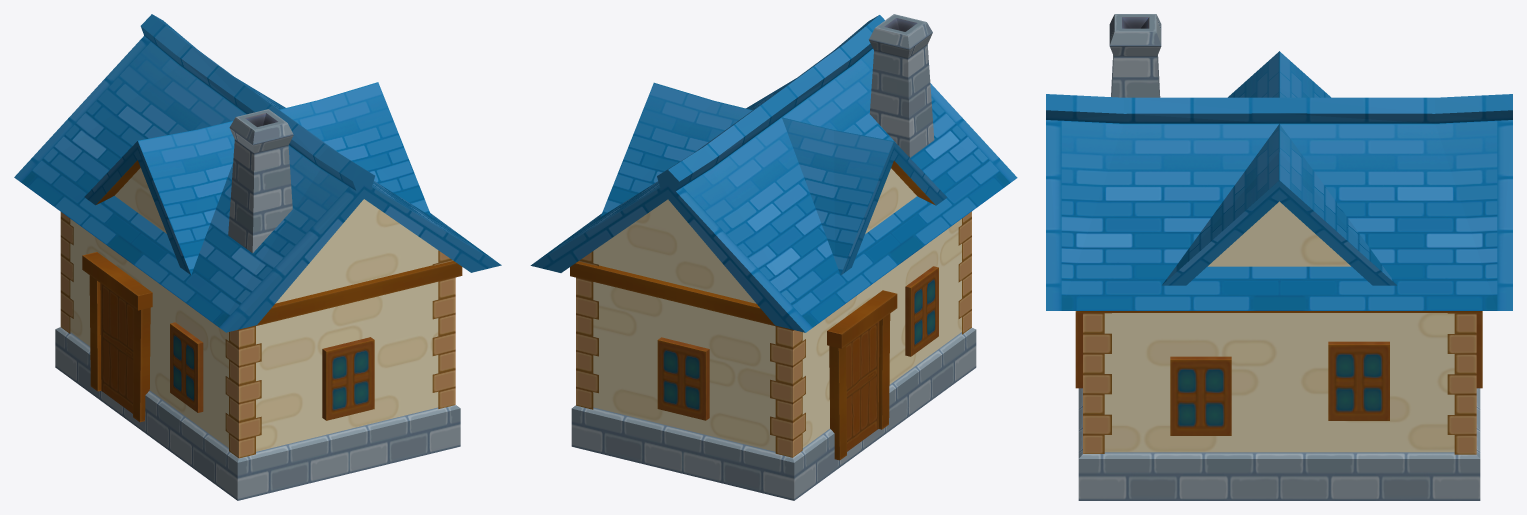
Rendered from HOS0110001.FBX.
The picture shows the model from 3 angles, left to right: view 1: azimuth 30°, elevation 25°; view 2: azimuth 150°, elevation 25°; view 3: azimuth 270°, elevation 25°; orthographic projection. The views are drawn at different scales.
Visible parts, largest first — view 1: smHOS0110001; view 2: smHOS0110001; view 3: smHOS0110001.
Part boxes in pixels (x1,y1,x2,y2): smHOS0110001: (14, 14, 501, 500); smHOS0110001: (530, 14, 1017, 500); smHOS0110001: (1046, 14, 1512, 500).
Size of the model in its own units: 580 by 703 by 772.
1 material, 1 textured.
